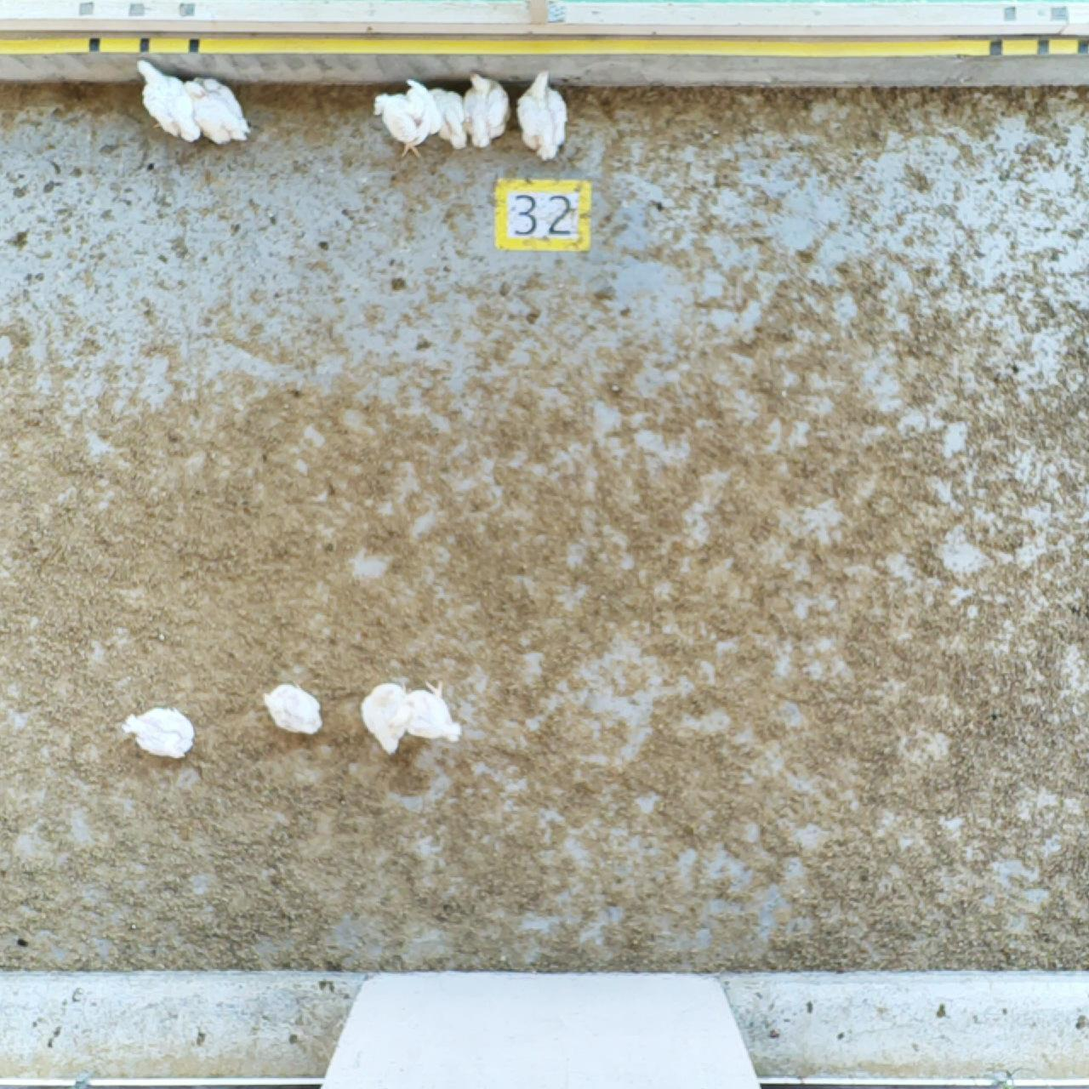chicken: (134, 60, 202, 145), (184, 73, 254, 141), (393, 676, 463, 744), (407, 81, 471, 153), (516, 70, 563, 161), (123, 704, 195, 760), (456, 74, 508, 145), (375, 91, 429, 158), (361, 682, 408, 753), (257, 681, 322, 731)
